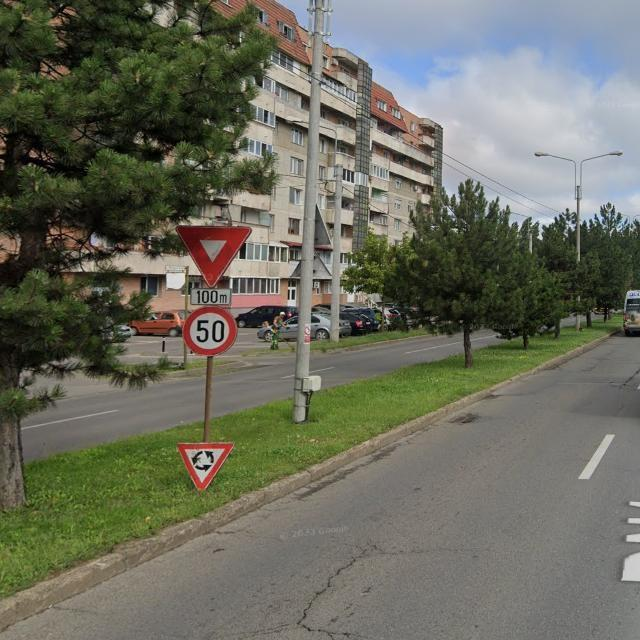forb_speed_over_50: (184, 307, 237, 356)
prio_give_way: (176, 226, 251, 289)
